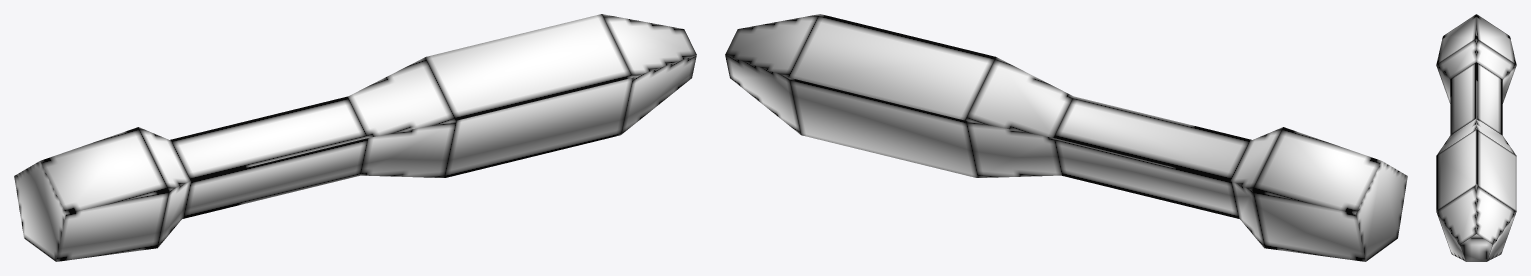
Rendered from rakete.obj.
3 views of the same model, side by side, from view 1: azimuth 30°, elevation 25°; view 2: azimuth 150°, elevation 25°; view 3: azimuth 270°, elevation 25° (orthographic). The views are drawn at different scales.
Visible parts, largest first — view 1: cube1_sep55; view 2: cube1_sep55; view 3: cube1_sep55.
Boxes of the visible parts, x1,y1,x2,y2 form: cube1_sep55: [14, 14, 696, 261]; cube1_sep55: [725, 14, 1407, 261]; cube1_sep55: [1436, 14, 1516, 261].
Bounding box in the file's own units: 3.51 × 0.5581 × 0.5869.
Materials: 1 (1 with a texture image).
